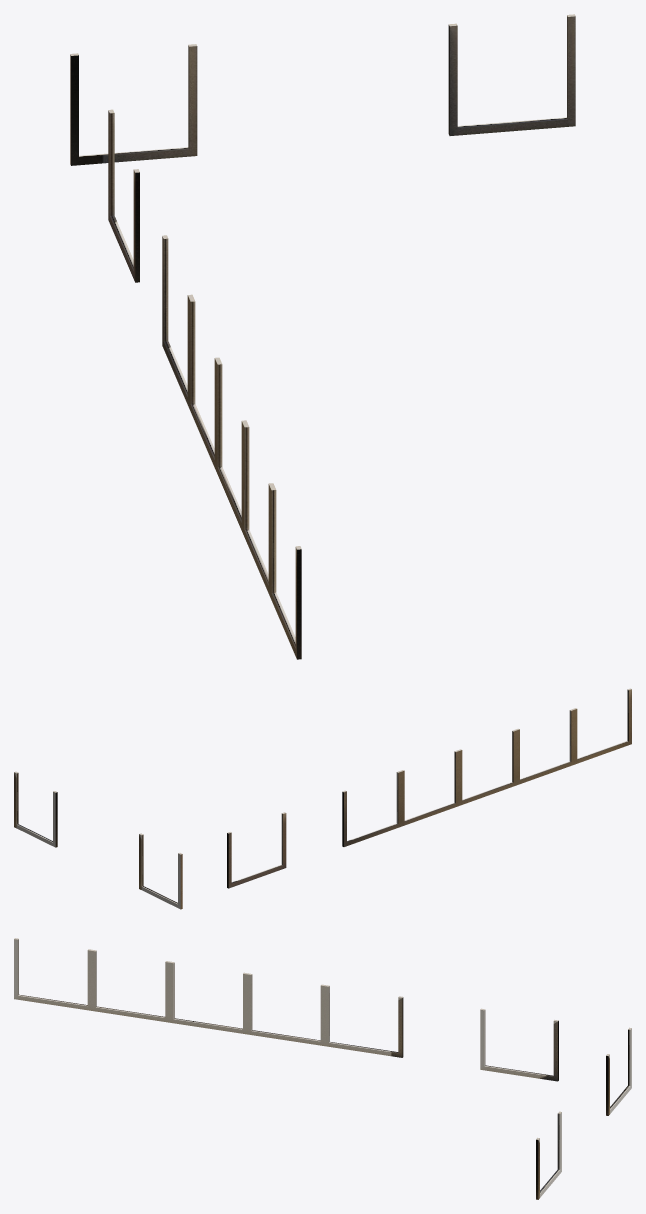
File: Building_05_L03_Ap_07_Frames.fbx
3 views of the same model, one above another, from view 1: azimuth 30°, elevation 25°; view 2: azimuth 150°, elevation 25°; view 3: azimuth 270°, elevation 25° (orthographic). The views are drawn at different scales.
Visible parts, largest first — view 1: Building_05_L03_Ap_07_Frames; view 2: Building_05_L03_Ap_07_Frames; view 3: Building_05_L03_Ap_07_Frames.
Part boxes in pixels (box(x1,y1,x2,y2)): Building_05_L03_Ap_07_Frames: box(70, 14, 575, 659); Building_05_L03_Ap_07_Frames: box(14, 688, 631, 909); Building_05_L03_Ap_07_Frames: box(14, 938, 631, 1199).
Size of the model in its own units: 10.7 by 1.48 by 13.84.
1 material, 1 textured.
